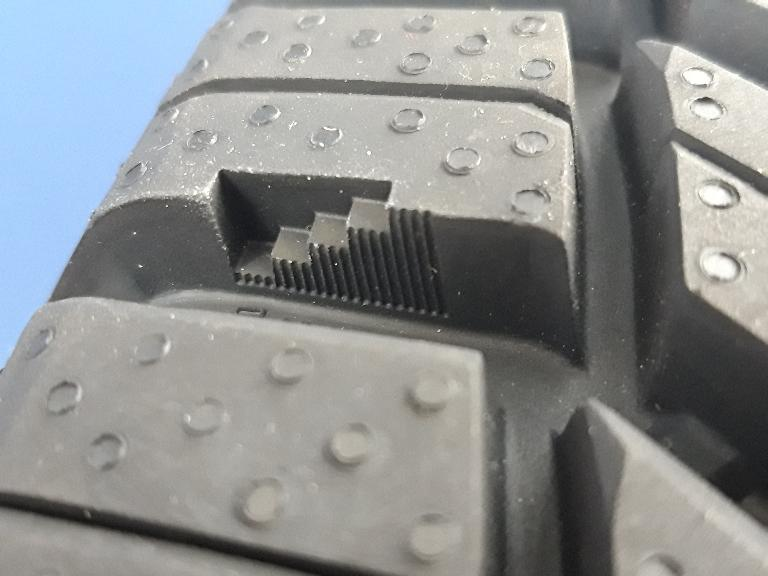temoin:100: (200, 165, 448, 328)
